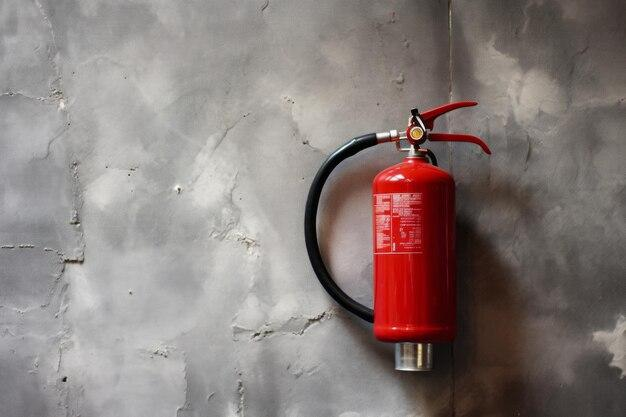wall-mounted: (289, 91, 505, 383)
